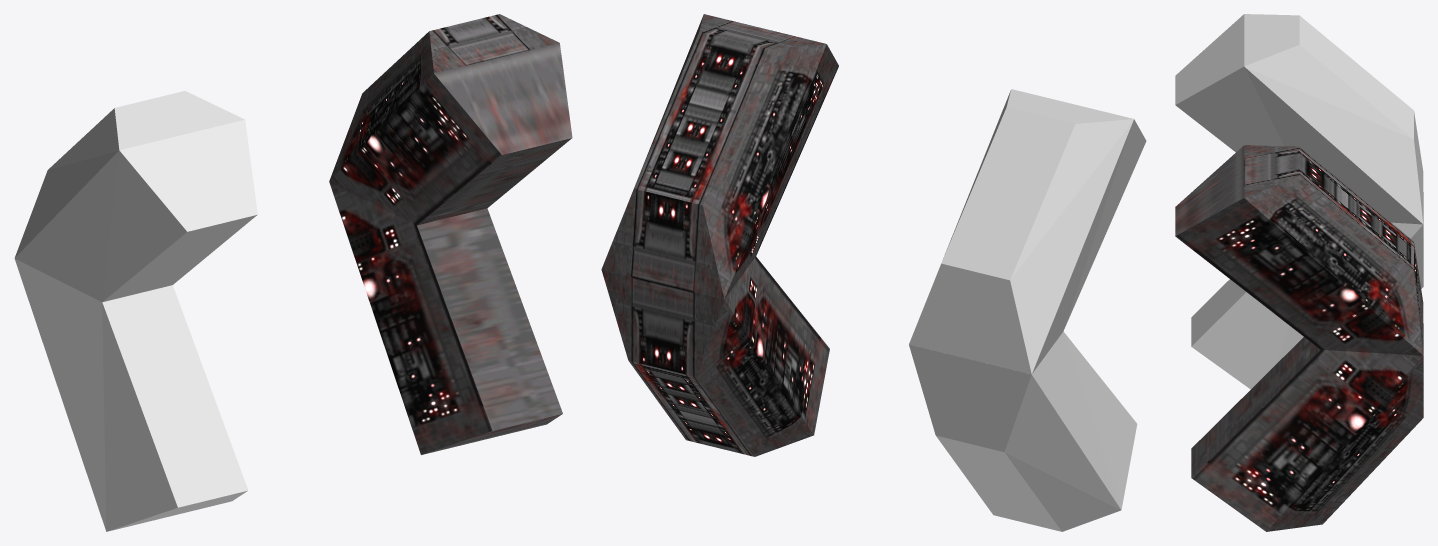
The model's file is bst_cs_production_capship.dae.
The picture shows the model from 3 angles, left to right: view 1: azimuth 30°, elevation 25°; view 2: azimuth 150°, elevation 25°; view 3: azimuth 270°, elevation 25°; orthographic projection. The views are drawn at different scales.
Parts seen in each view (by area): view 1: MULT[Root_mesh]_LOD[0], COL[Root]; view 2: MULT[Root_mesh]_LOD[0], COL[Root]; view 3: MULT[Root_mesh]_LOD[0], COL[Root].
Boxes of the visible parts, box(x1,y1,x2,y2) form: MULT[Root_mesh]_LOD[0]: box(329, 14, 572, 454); COL[Root]: box(14, 91, 257, 531); MULT[Root_mesh]_LOD[0]: box(601, 14, 838, 456); COL[Root]: box(909, 89, 1146, 531); MULT[Root_mesh]_LOD[0]: box(1175, 145, 1423, 531); COL[Root]: box(1175, 14, 1423, 389).
Bounding box in the file's own units: 330 × 292 × 189.
1 material, 1 textured.
